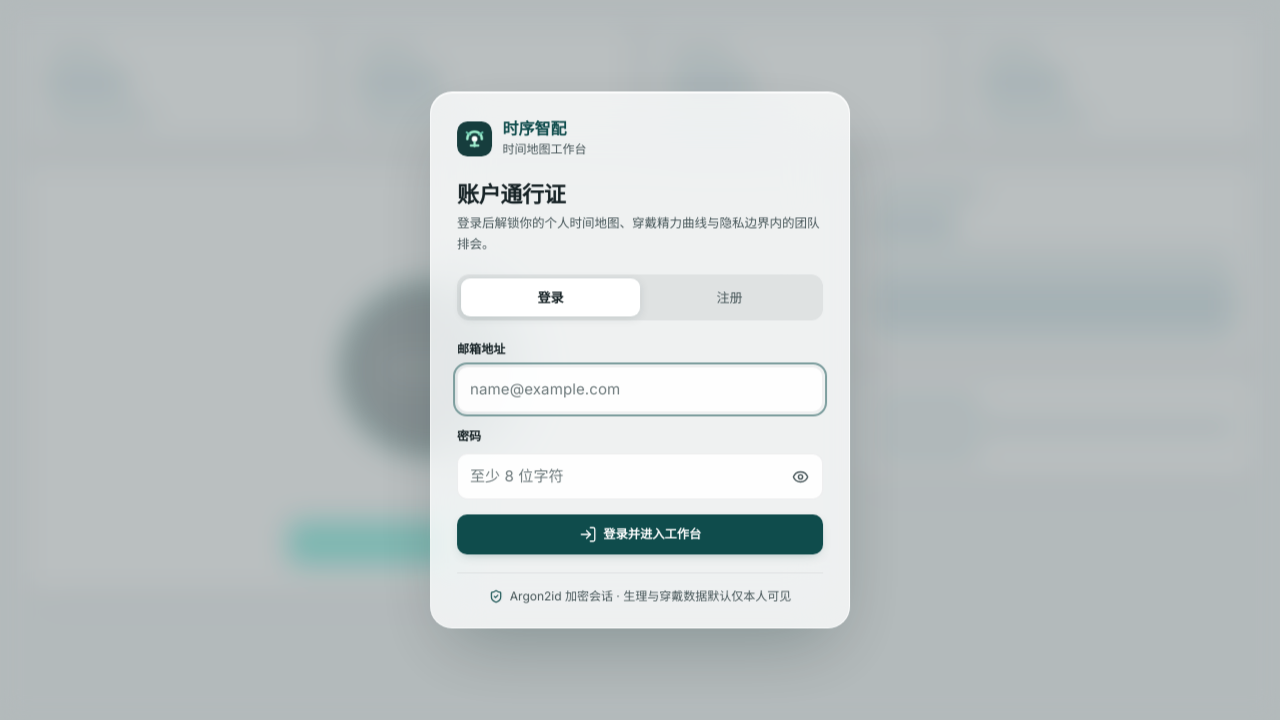
real authentication form › displays a server credential error instead of navigating to a fake authenticated view
Type "person@example.com" into the field labelled "邮箱地址" at (640, 389), box top-left (457, 366), bottom-right (823, 412)
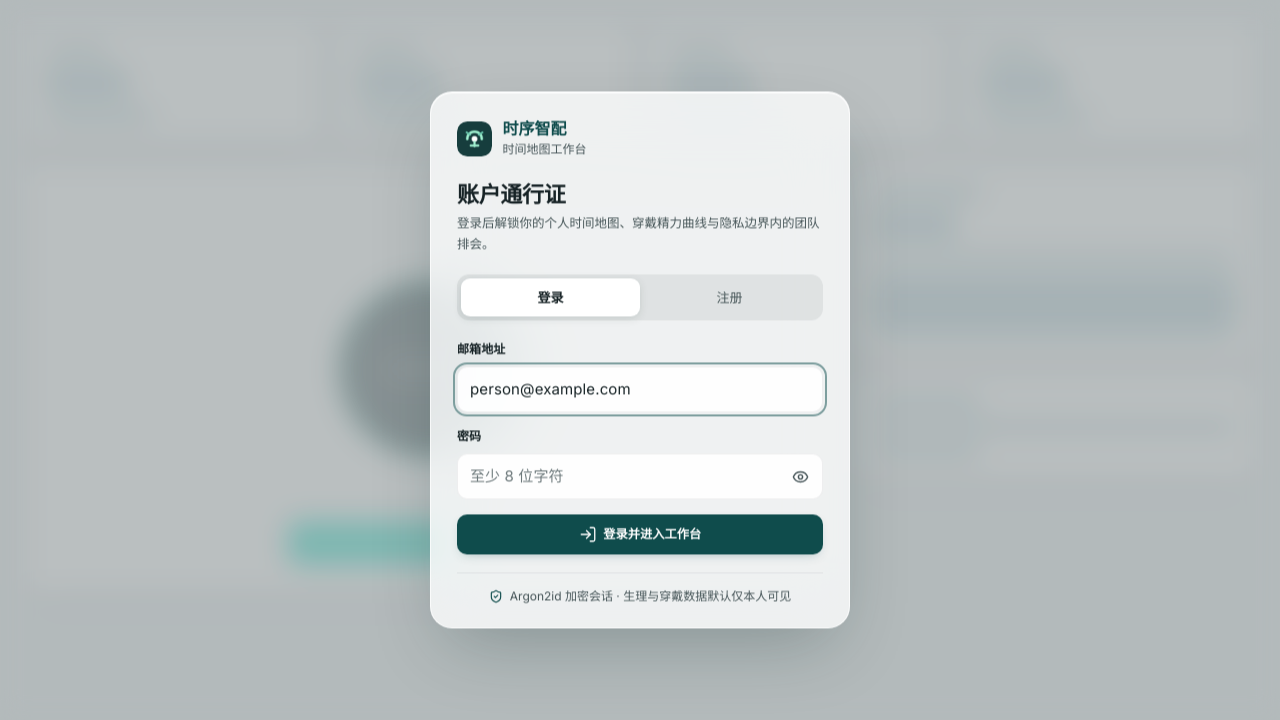
Type "wrong-password" into the password field labelled "密码" at (640, 476), box top-left (457, 453), bottom-right (823, 499)
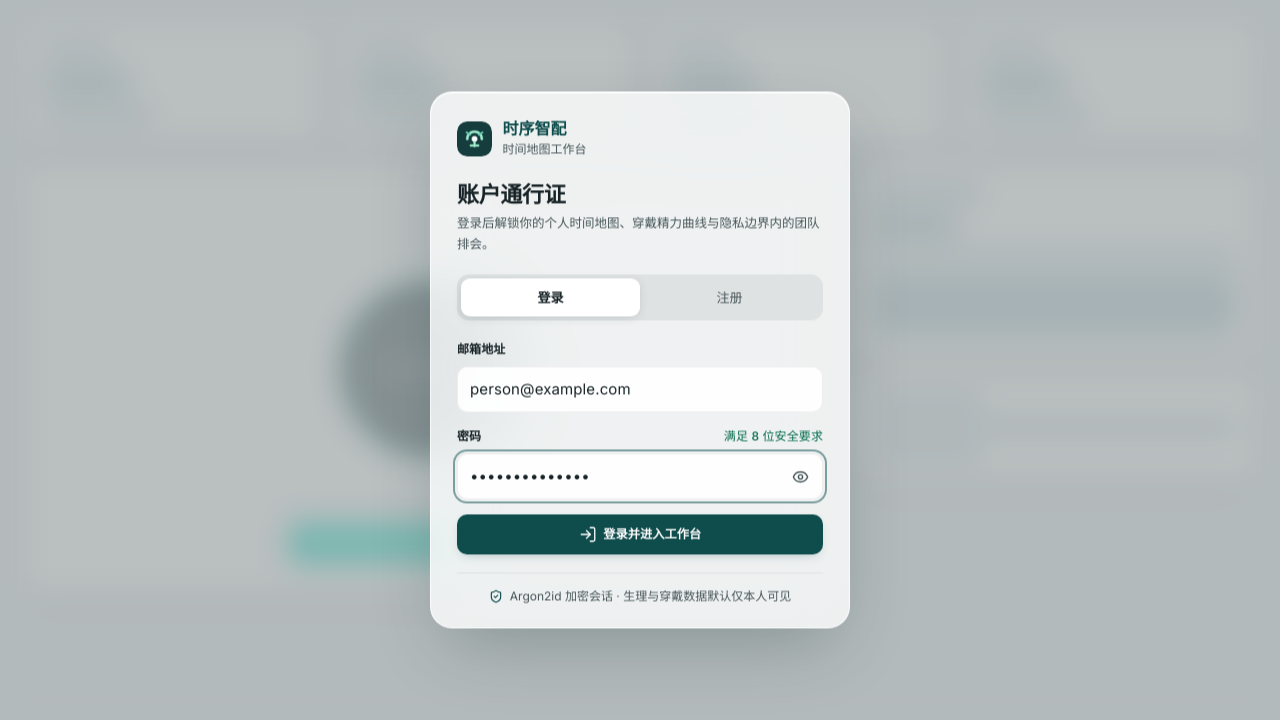
Click the button "登录并进入工作台" at (640, 534), box top-left (457, 514), bottom-right (823, 554)
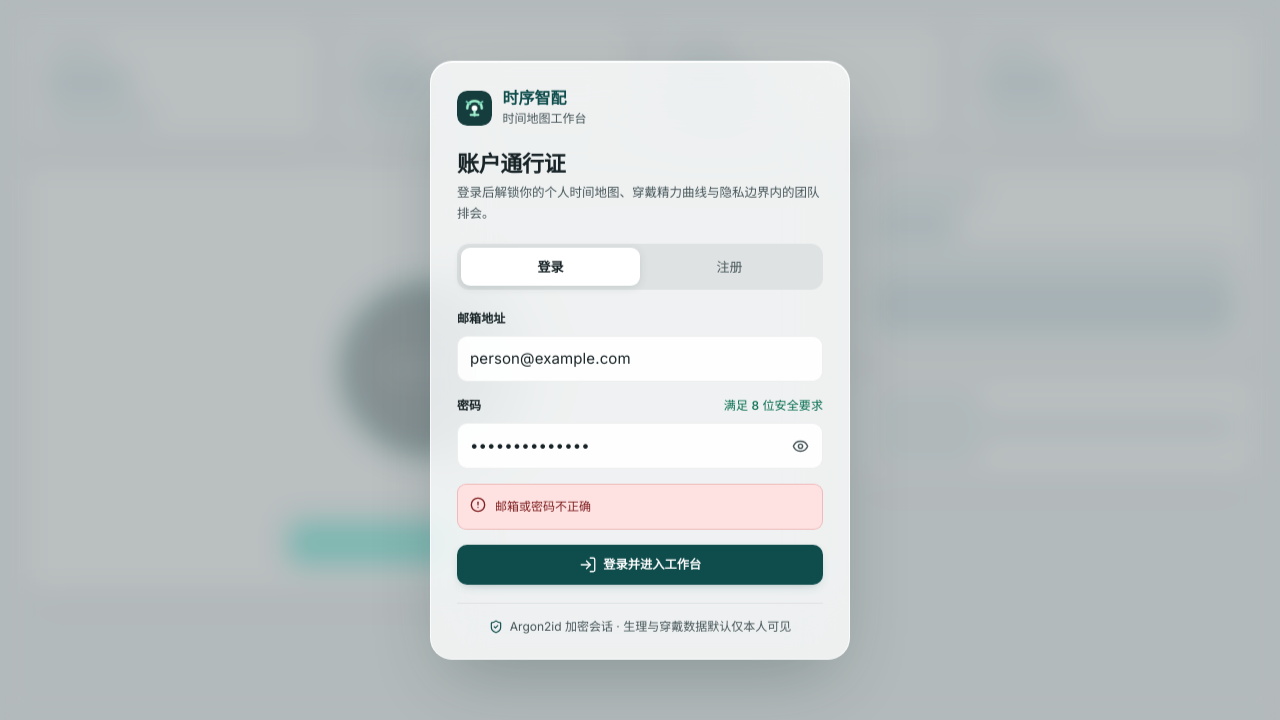
Result: the message reads "邮箱或密码不正确" at top-left (495, 498), bottom-right (591, 513)
